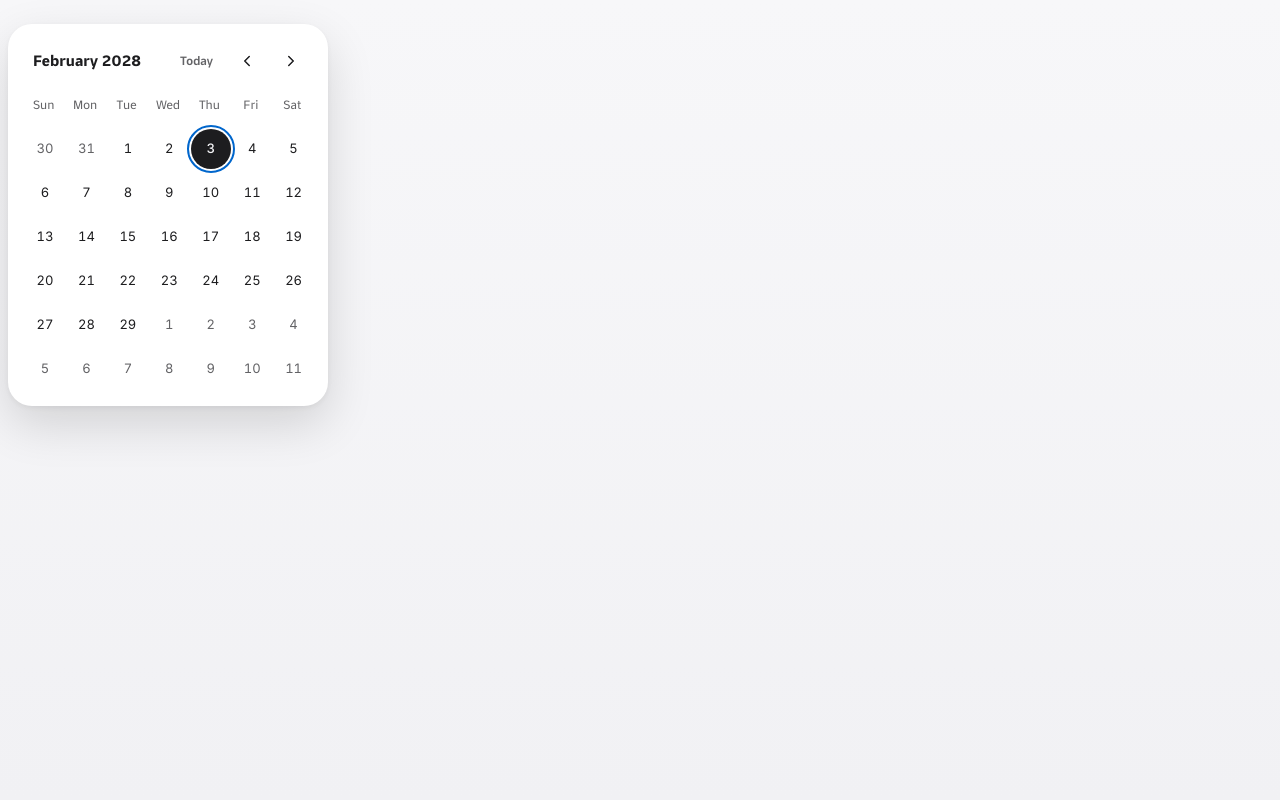
Test case: CalendarPopover: the chosen day, the month grid and Today › moves the view to this month with the Today button
Expected: the text "February 2028" is shown, [33,51,141,70]
Click the button "Today" at (196, 61), box [170,41,223,81]
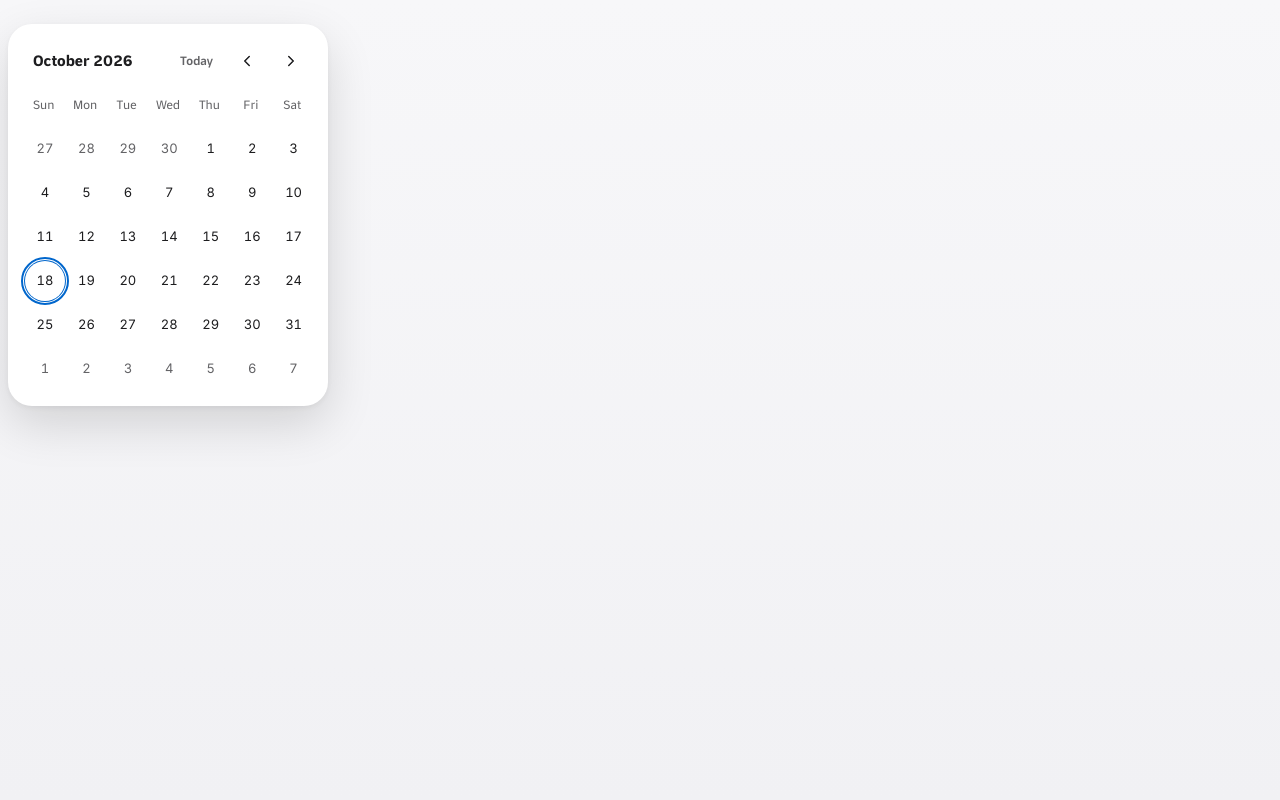
Now the text "October 2026" is shown, box [33,51,133,70]
